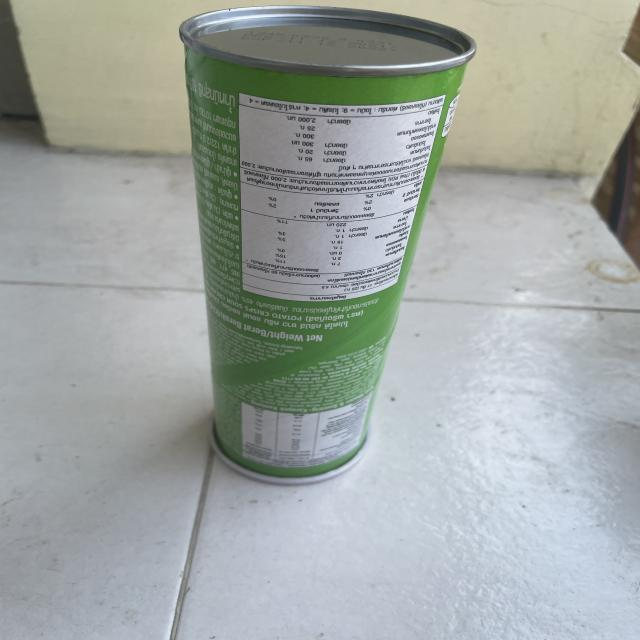a pringles: (166, 5, 478, 490)
